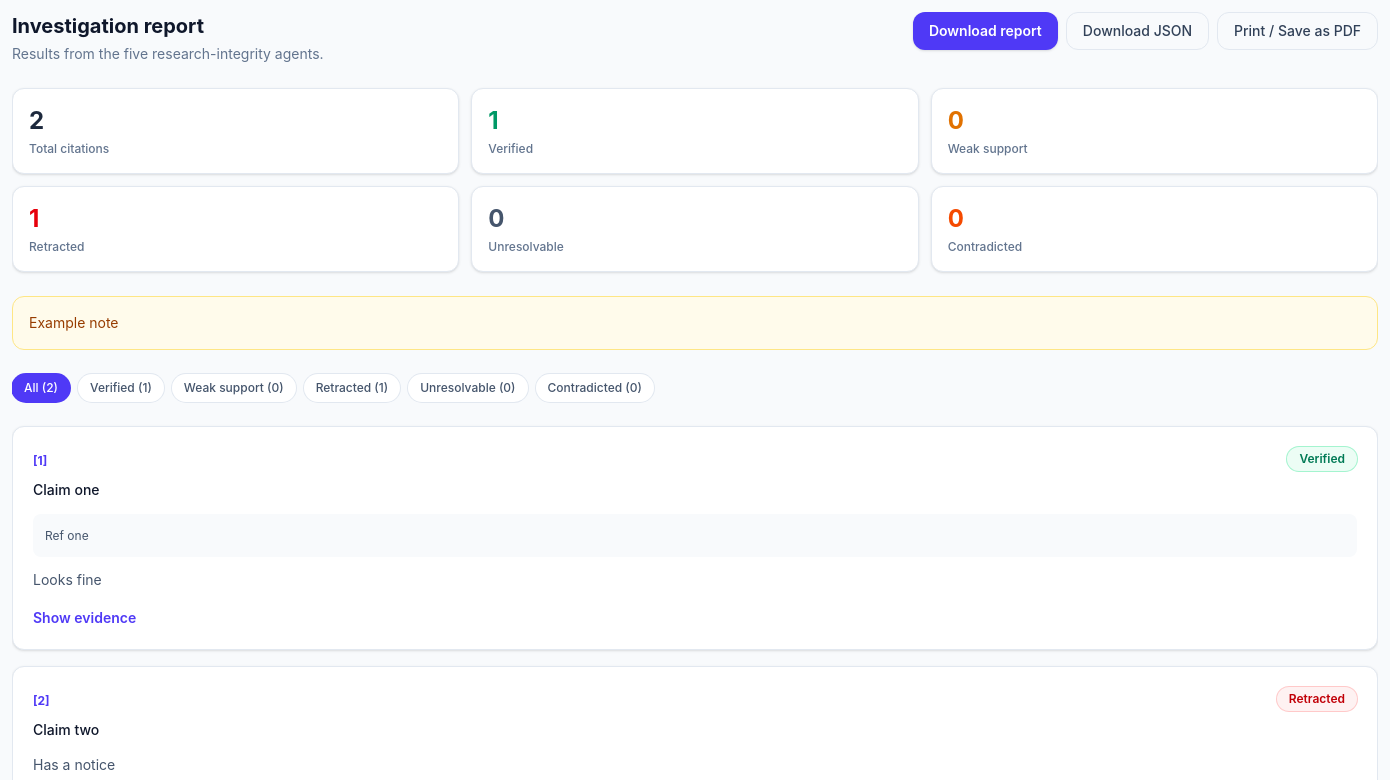
it: filter chips narrow the list
Click the button "Retracted (1)". click: [352, 388]
box: [304,374,400,402]
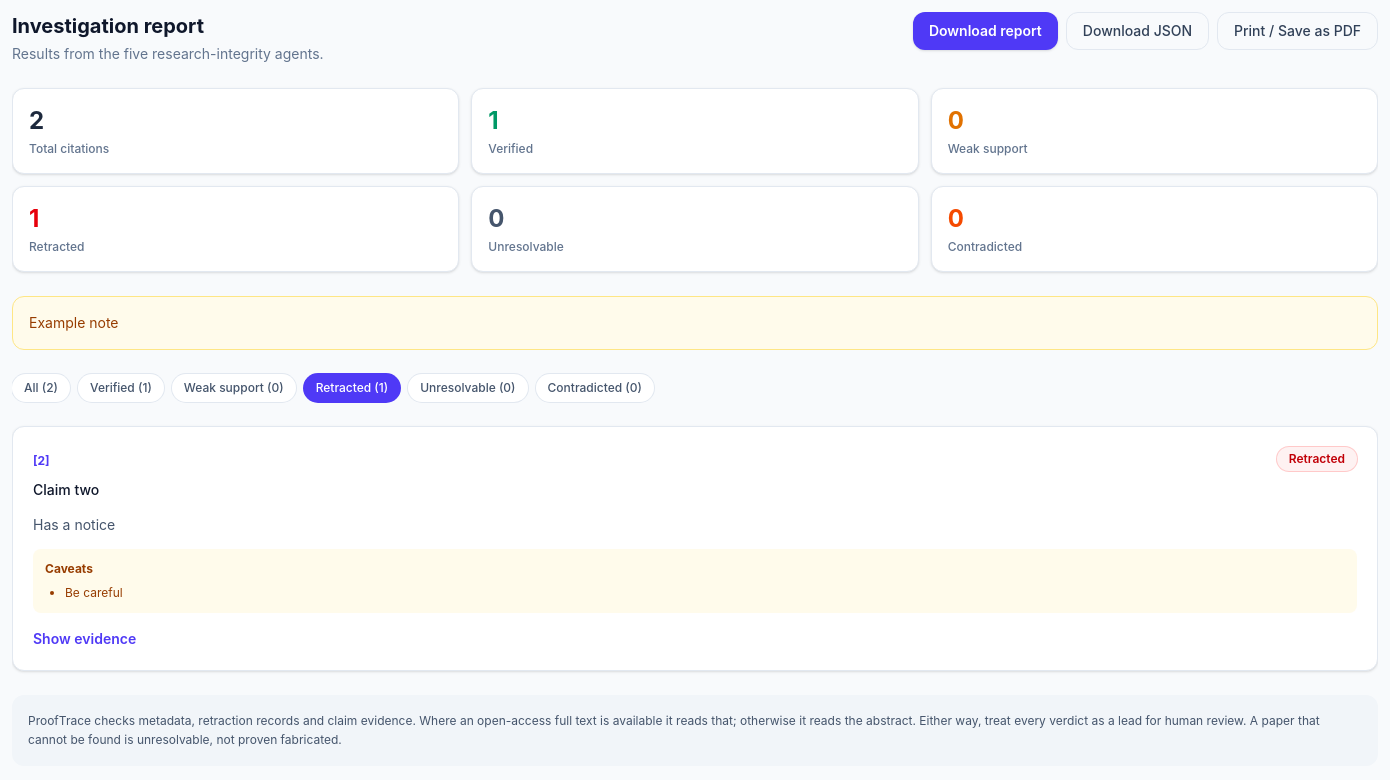
Expected: the text "Claim two" is shown, [33,481,99,498]
Expected: the text "Claim one" is gone
